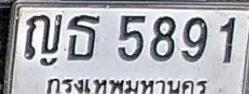1: (220, 16, 236, 63)
5: (118, 14, 146, 62)
8: (151, 15, 176, 61)
9: (182, 16, 208, 62)
A13: (24, 14, 63, 68)
A24: (67, 14, 100, 60)
BKK: (47, 74, 212, 94)
